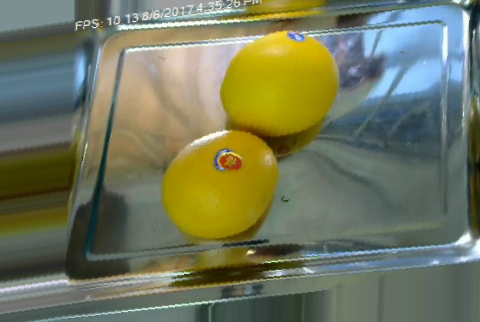Orange: (160, 128, 280, 239), (220, 31, 340, 134)
